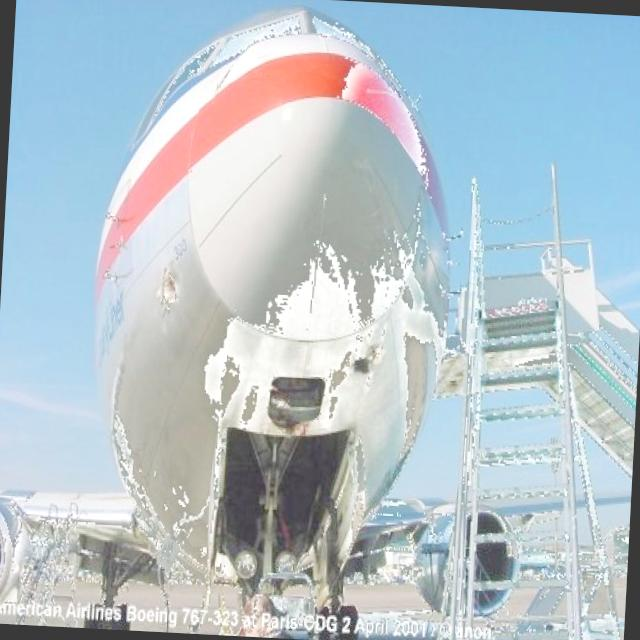dent: (160, 269, 189, 318)
